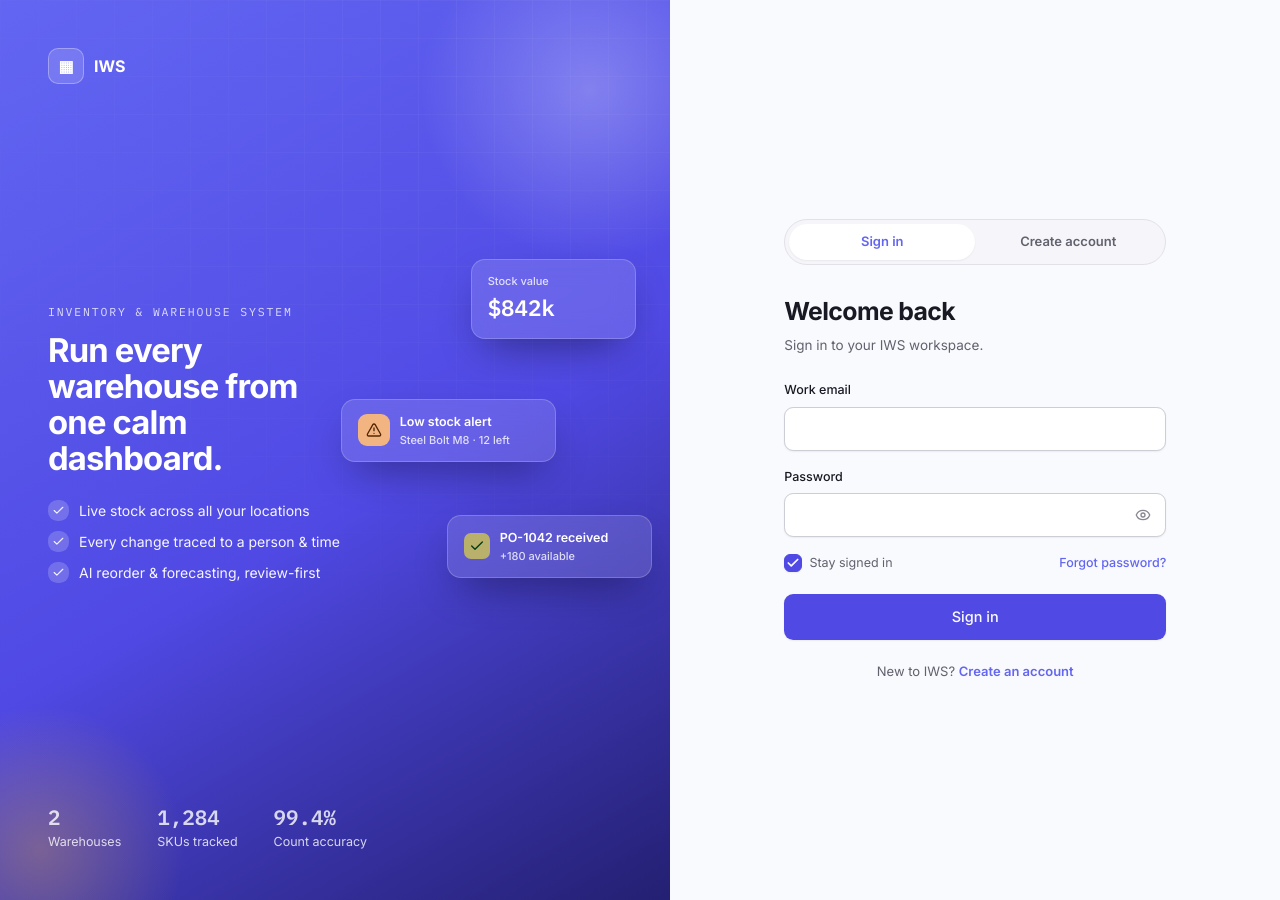
Scenario: LoginPage › rejects a valid account whose role is not for the Staff app (no bounce, no redirect)
Type "admin@iws.local" into the field labelled "Work email" at (975,429), box [784, 407, 1166, 451]
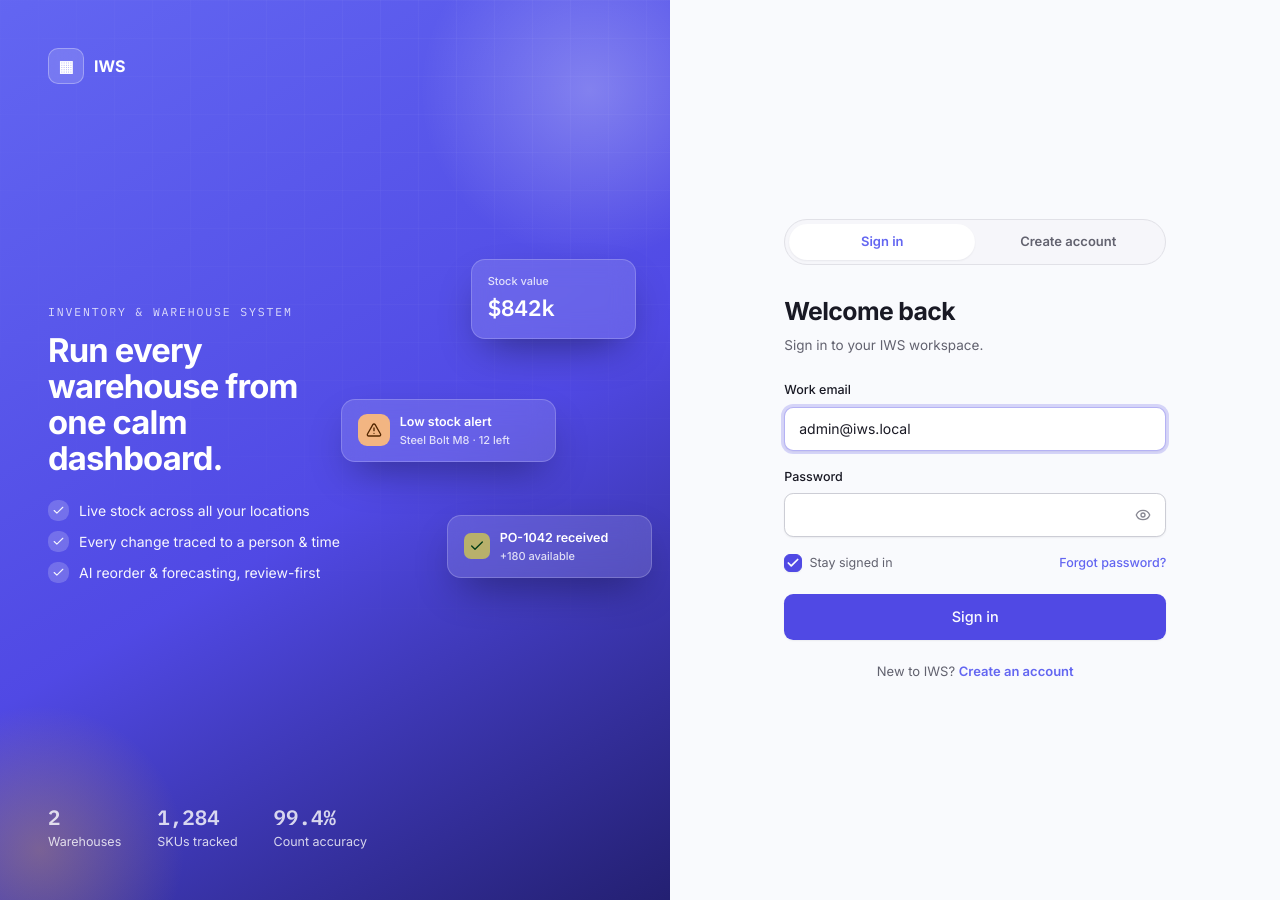
Type "Admin@12345" into the password field labelled "Password" at (975,515), box [784, 493, 1166, 537]
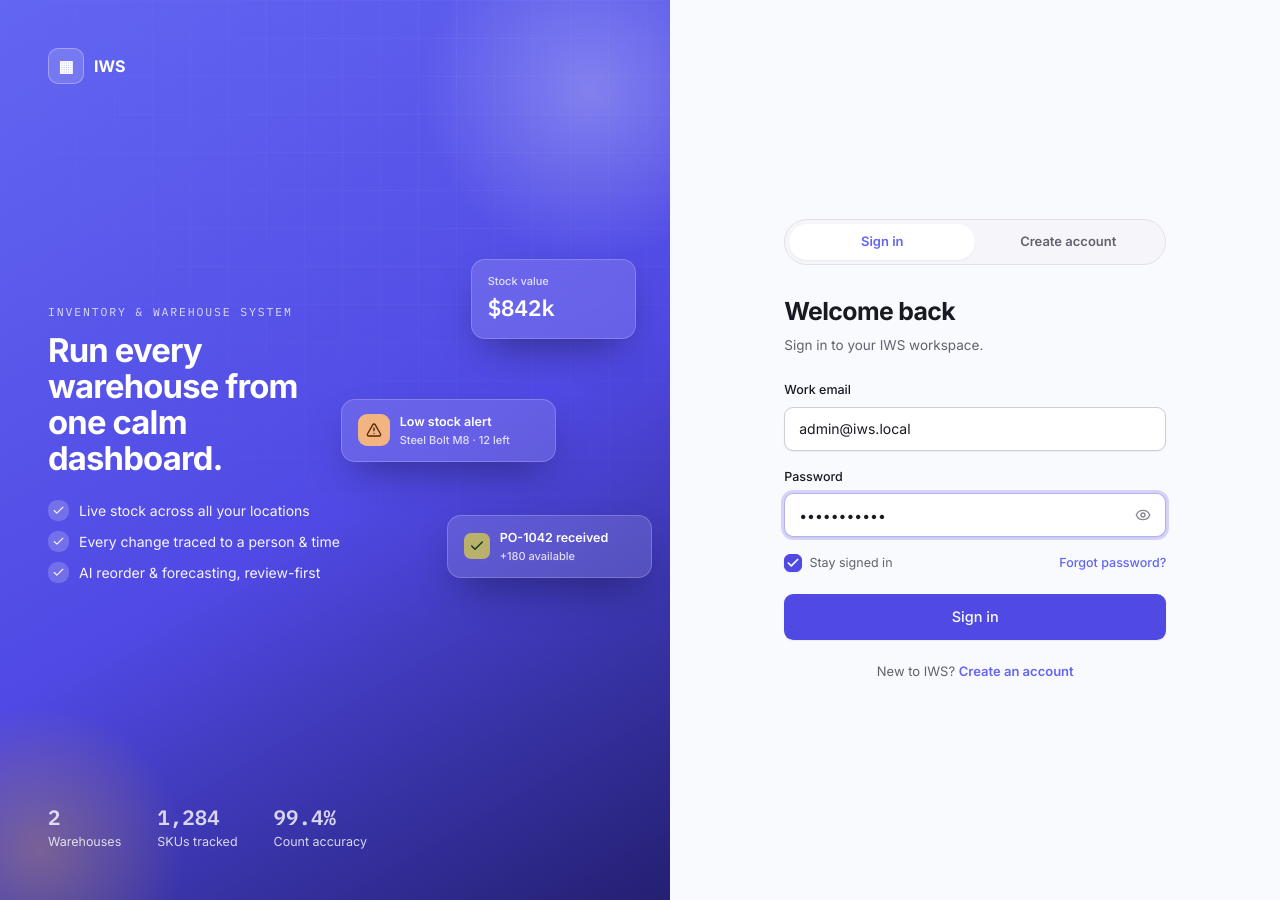
Click the button "Sign in" at (975,617), box [784, 594, 1166, 640]
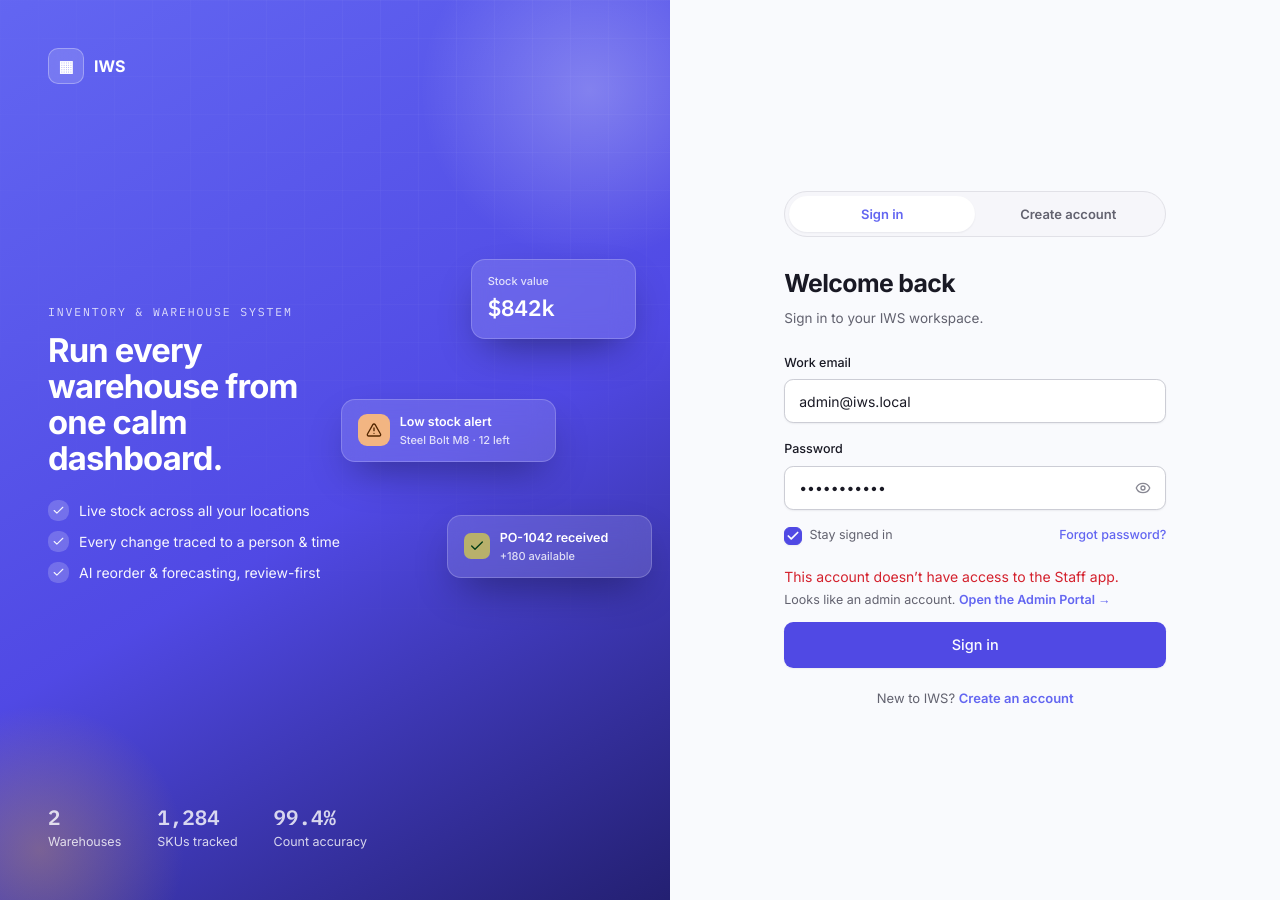
Expected: the text "This account doesn’t have access to the Staff app." is shown, [784, 567, 1166, 587]
Expected: the link "Open the Admin Portal →" is shown, [959, 592, 1111, 607]
